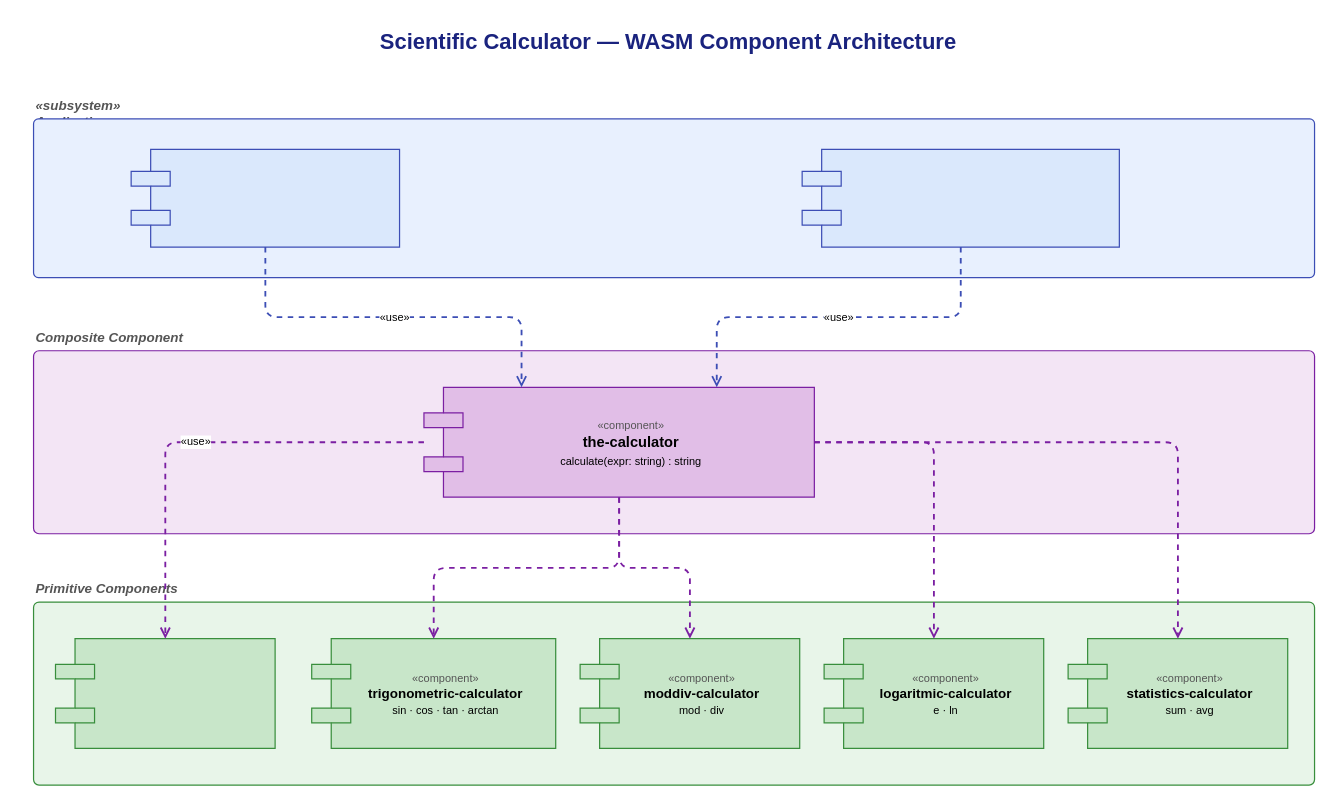
This 1336x806 diagram has some shape labels left out. The centre of each missing label's shape, as x and y in pixels:
«component» arithmetic-calculator add · subtract · multiply · divide: point (164, 692)
«component» thecalculatorcli CLI Application: point (265, 197)
«component» thecalculatorspin HTTP API · Spin Framework: point (960, 197)
